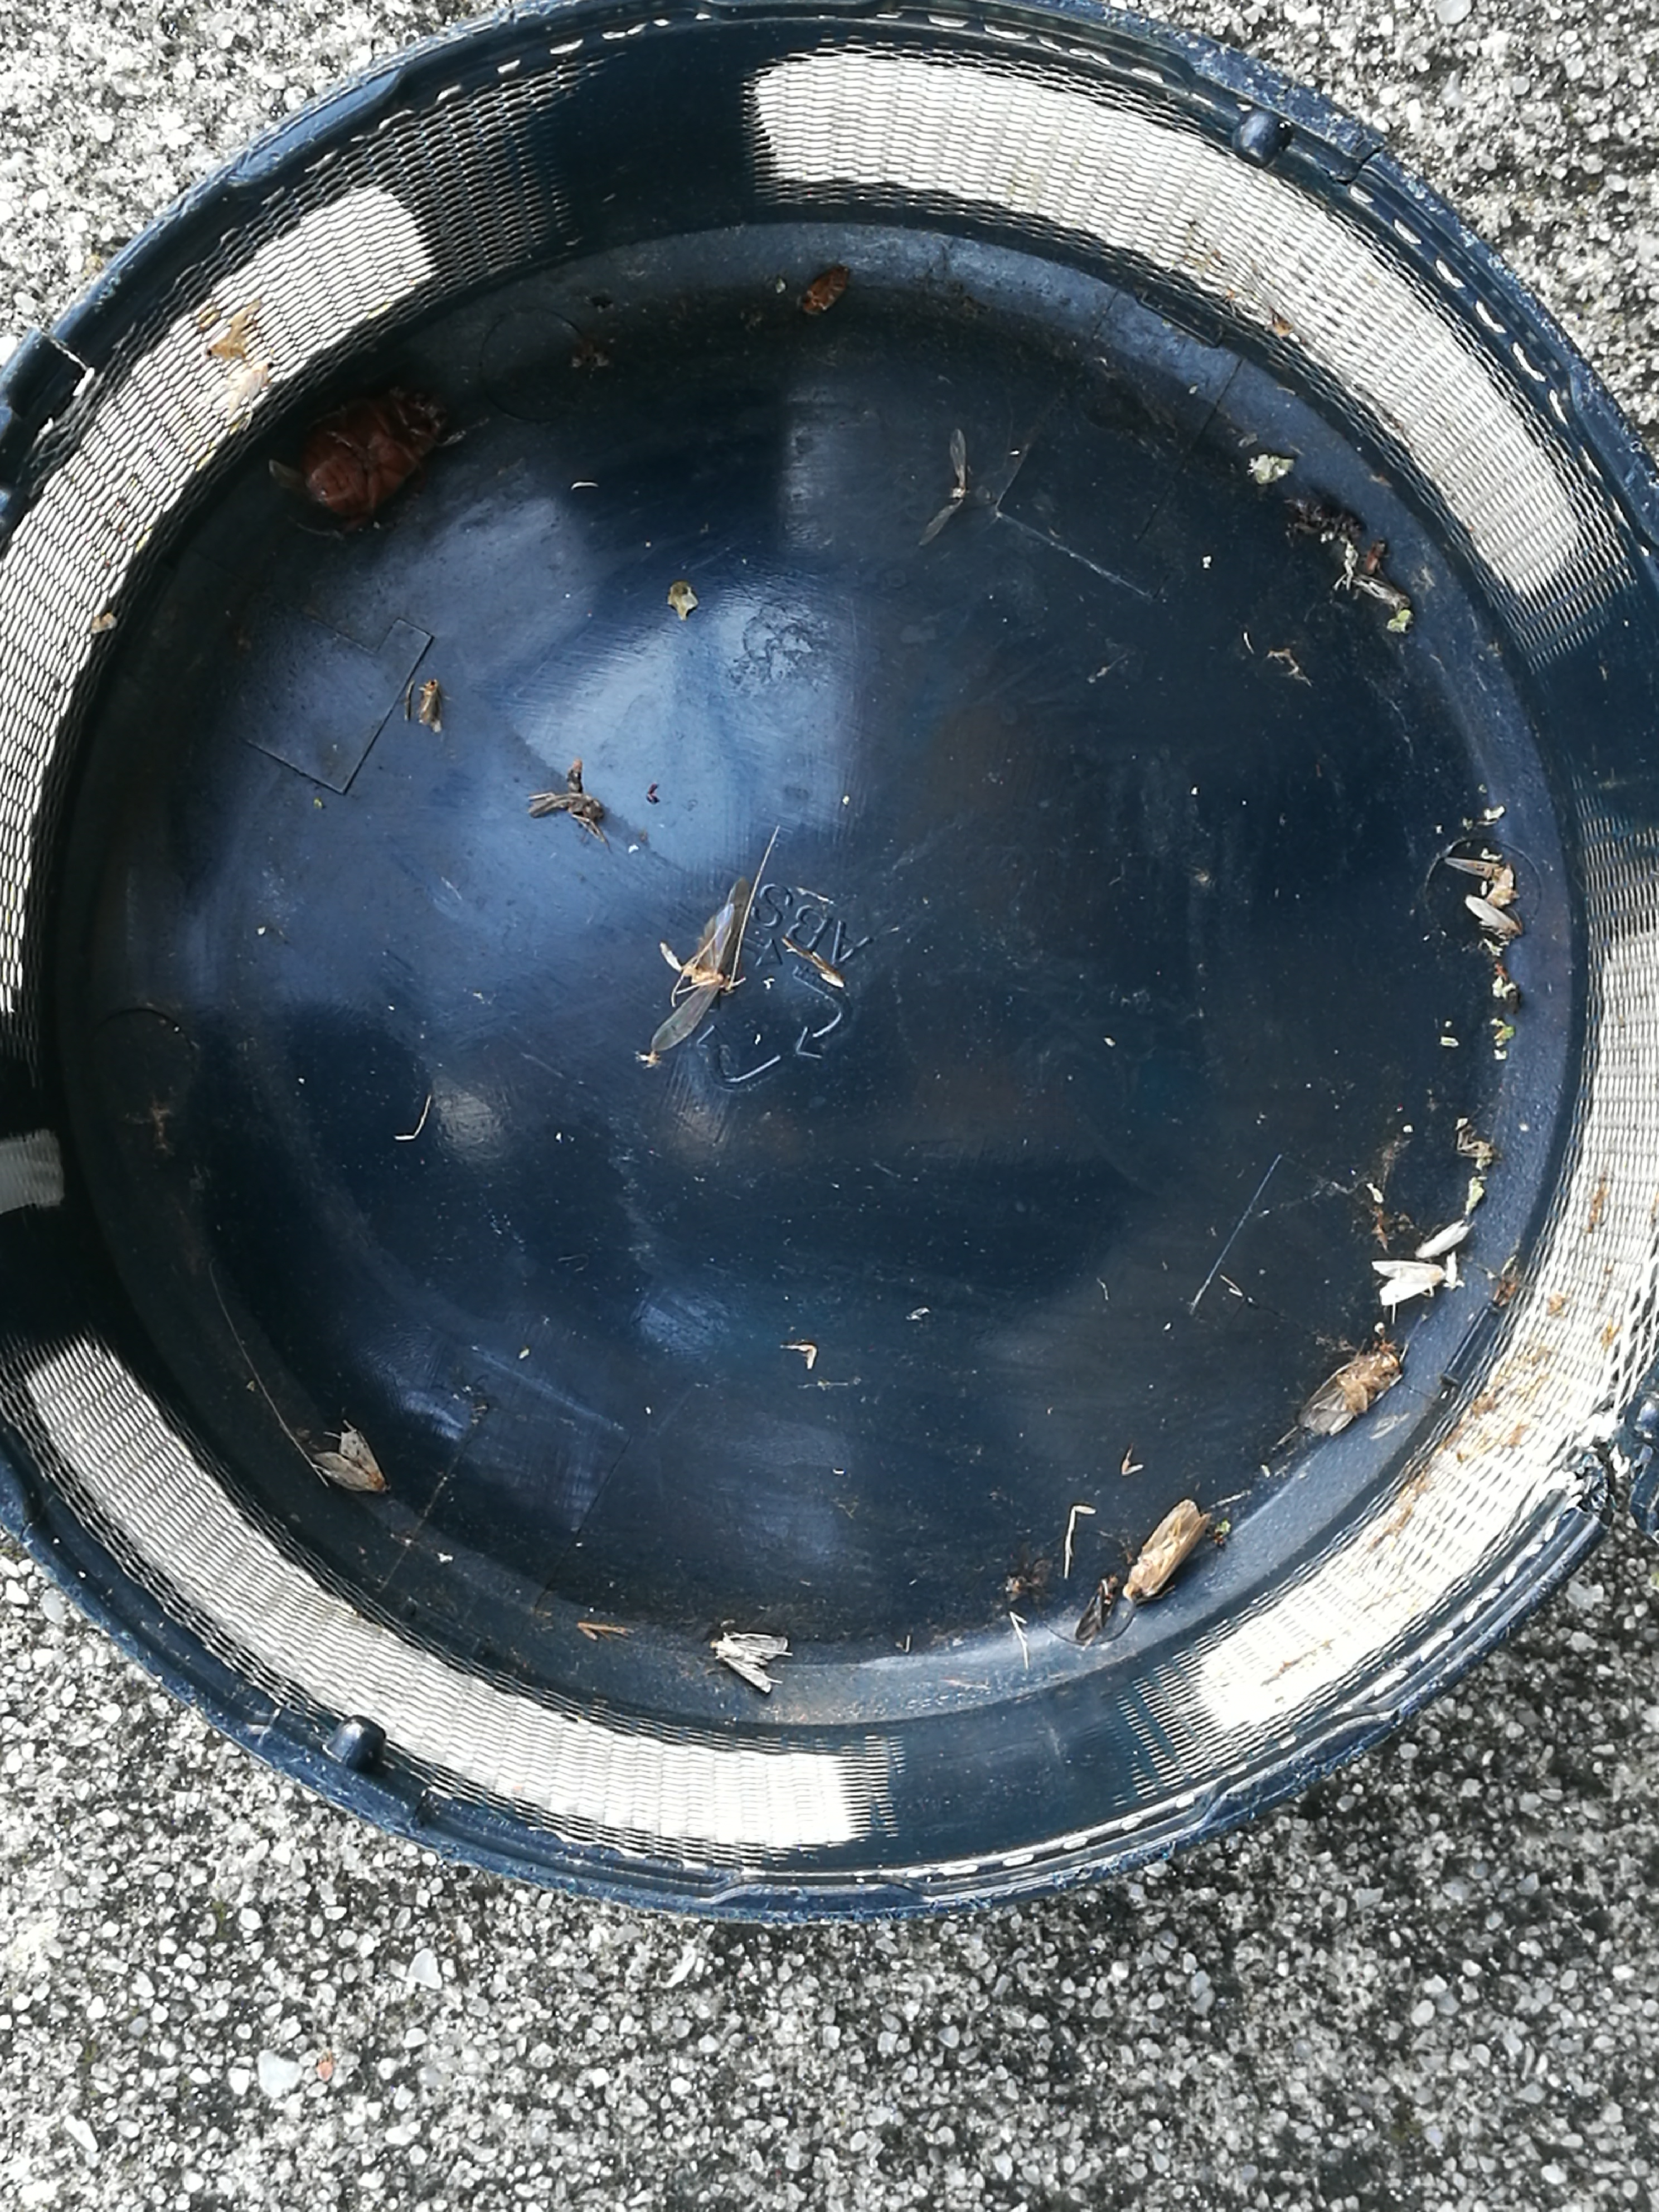beetle: (301, 390, 444, 517), (800, 268, 850, 314)
mosquito: (1075, 1575, 1119, 1637), (1354, 575, 1412, 610), (528, 794, 601, 820), (420, 678, 439, 726)
moth: (653, 880, 748, 1050), (1122, 1501, 1209, 1604), (1300, 1350, 1401, 1435), (709, 1634, 788, 1695), (315, 1430, 385, 1493), (1373, 1259, 1443, 1305)
